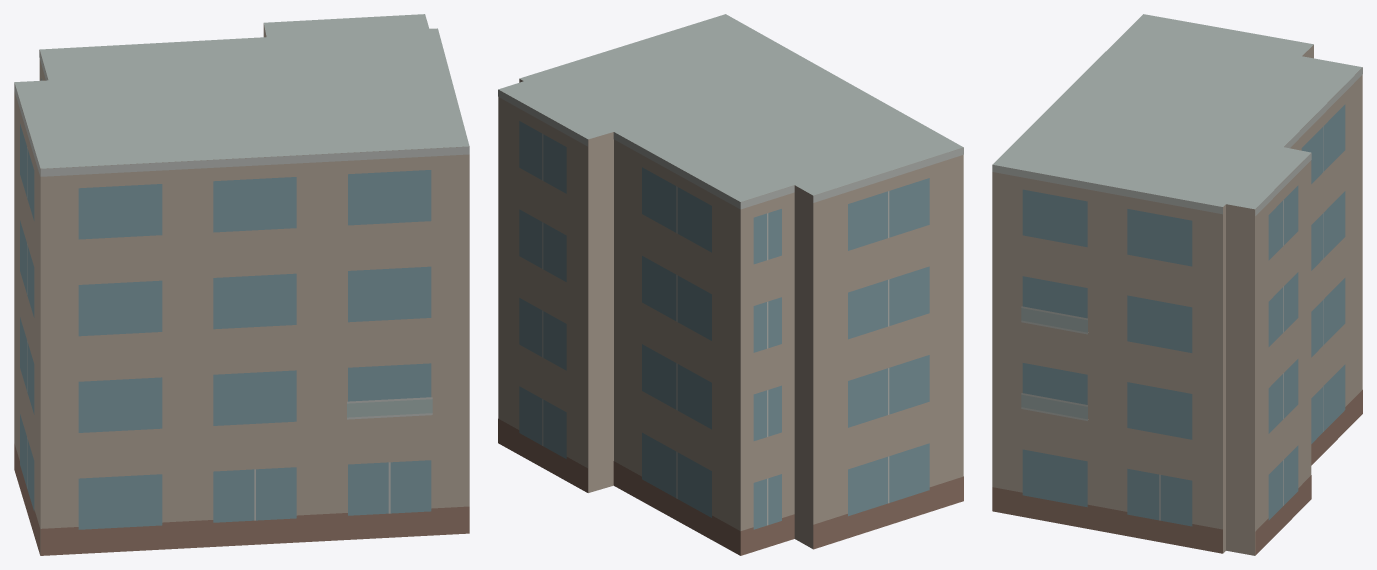
File: survey-upis-32652818.glb
3 views of the same model, side by side, from view 1: azimuth 30°, elevation 25°; view 2: azimuth 150°, elevation 25°; view 3: azimuth 270°, elevation 25° (orthographic). The views are drawn at different scales.
Visible parts, largest first — view 1: survey-upis-32652818.tmp; view 2: survey-upis-32652818.tmp; view 3: survey-upis-32652818.tmp.
Part boxes in pixels (x1,y1,x2,y2): survey-upis-32652818.tmp: [14, 14, 469, 555]; survey-upis-32652818.tmp: [498, 14, 963, 555]; survey-upis-32652818.tmp: [992, 14, 1362, 555].
Size of the model in its own units: 14.15 by 11.7 by 11.34.
